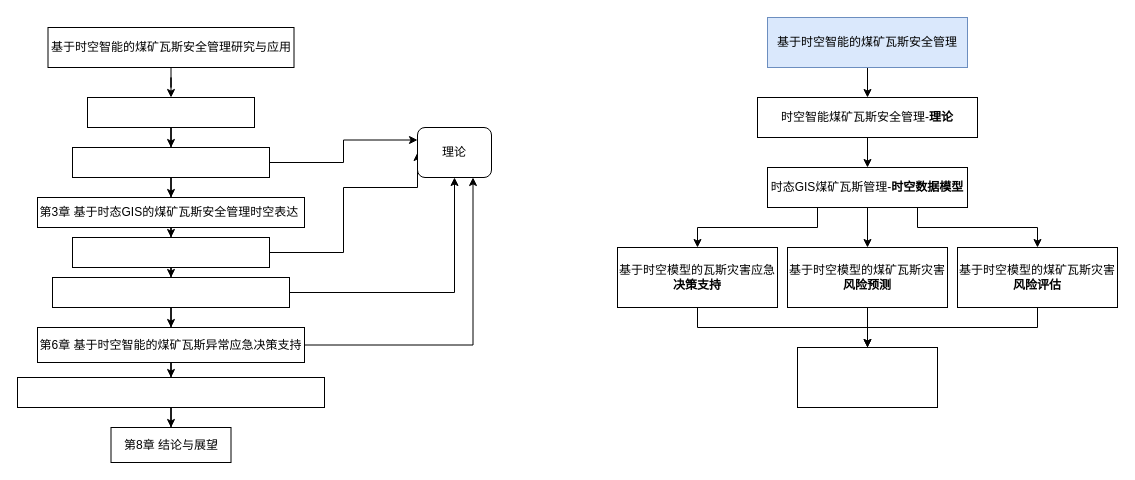
This 1135x480 diagram has some shape labels left out. The shapes that lost their labels are listed below. From the top down, each one's box as (x1, y1, x2, y2) in pixels, then its label:
(86, 96, 254, 128): 第1章 绪论
(72, 146, 270, 178): 第2章 煤矿瓦斯安全管理基础理论
(72, 236, 270, 268): 第4章 煤矿瓦斯安全风险综合评估
(52, 276, 290, 308): 第5章 基于Transformer的煤矿瓦斯风险预测
(16, 376, 324, 408): 第7章 基于时空智能的煤矿瓦斯安全管理平台实现与应用
(796, 346, 938, 408): 基于时空智能的煤矿瓦斯 管理平台
